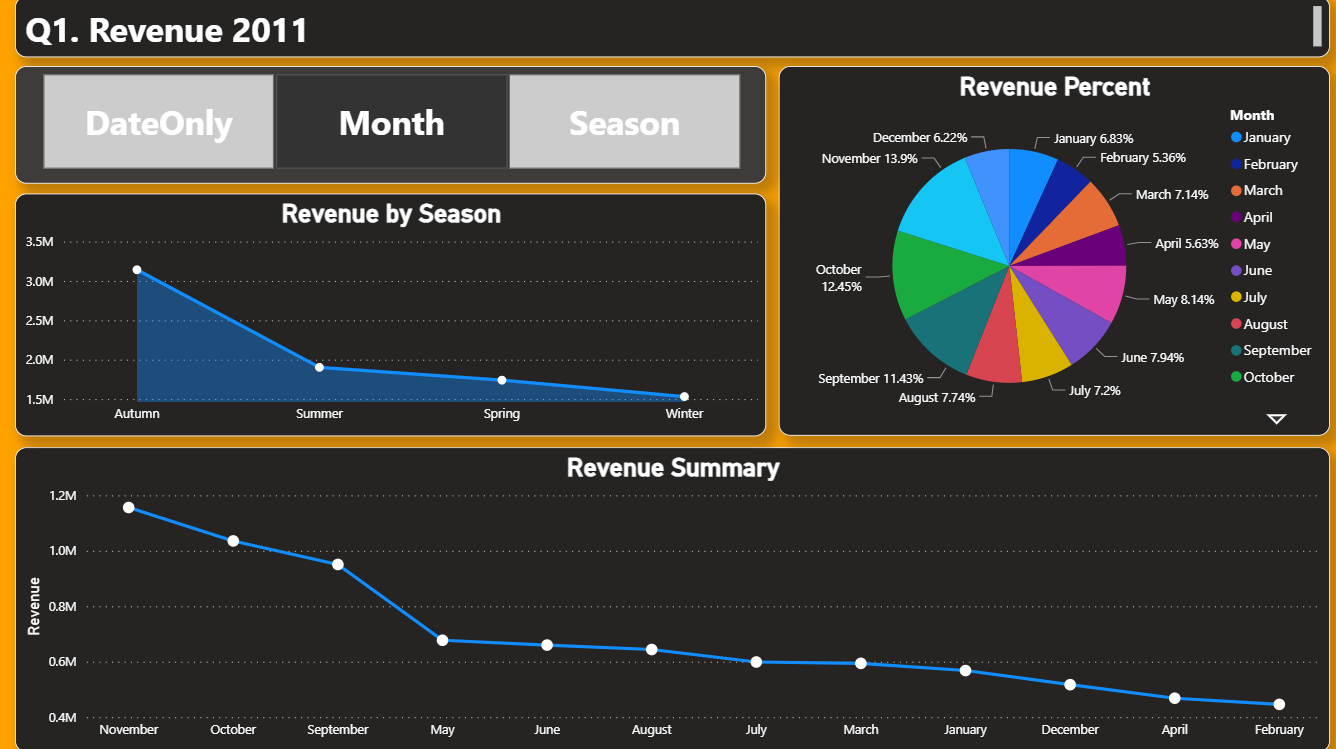

The page's visual inventory and layout, read from the dashboard file:
{"tool":"powerbi","page":{"name":"Question 1","canvas":[1280,720],"ordinal":1},"visuals":[{"type":"lineChart","title":"Revenue Summary","fields":{"Category":["revenue_2011.Month"],"Y":["Sum(revenue_2011.Revenue)"]},"box":[14.3,429.6,1252,290.4],"z":0},{"type":"textbox","box":[14.3,0,1252,58.3],"z":1000},{"type":"pieChart","title":"Revenue Percent","fields":{"Y":["Sum(revenue_2011.Revenue)"],"Category":["revenue_2011.DateOnly.Variation.Date Hierarchy.Month","revenue_2011.DateOnly.Variation.Date Hierarchy.Day"]},"box":[741.4,66.6,524.8,352.3],"z":2000},{"type":"slicer","fields":{"Values":["x-axis.x-axis"]},"box":[14.3,66.6,715.2,111.9],"z":3000},{"type":"areaChart","title":"Revenue by Season","fields":{"Category":["revenue_2011.Season"],"Y":["Sum(revenue_2011.Revenue)"]},"box":[14.3,188,715.2,230.9],"z":4000}]}

Visuals, with their boxes in screenshot pixels (x1, y1, x2, y2), scaled from the page's 1280x720 canvas onto the 1336x749 screenshot:
"Revenue Summary" lineChart: [left=15, top=447, right=1322, bottom=748]
textbox: [left=15, top=0, right=1322, bottom=61]
"Revenue Percent" pieChart: [left=774, top=69, right=1322, bottom=436]
slicer - x-axis.x-axis: [left=15, top=69, right=761, bottom=186]
"Revenue by Season" areaChart: [left=15, top=196, right=761, bottom=436]
